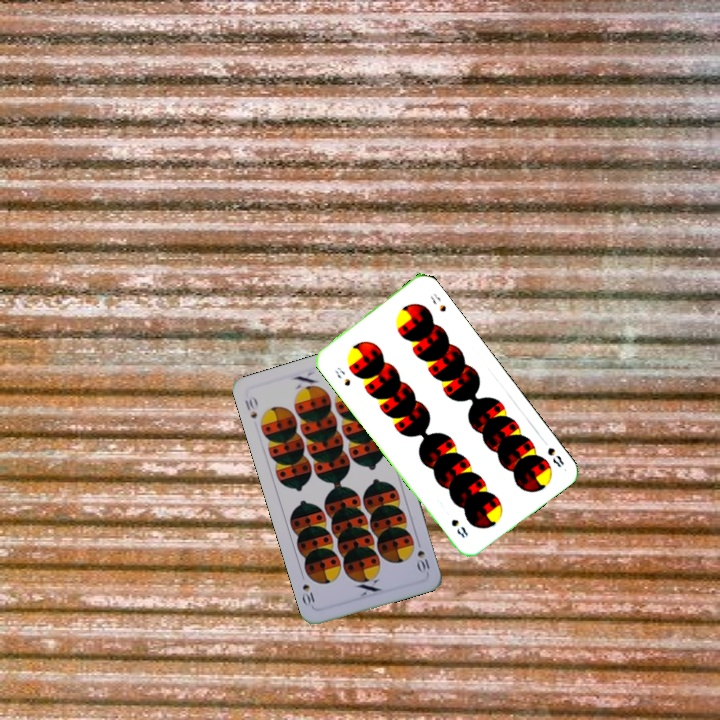S10: (412, 536, 432, 576), (241, 395, 260, 421)
S8: (538, 435, 566, 470), (331, 363, 353, 389)
